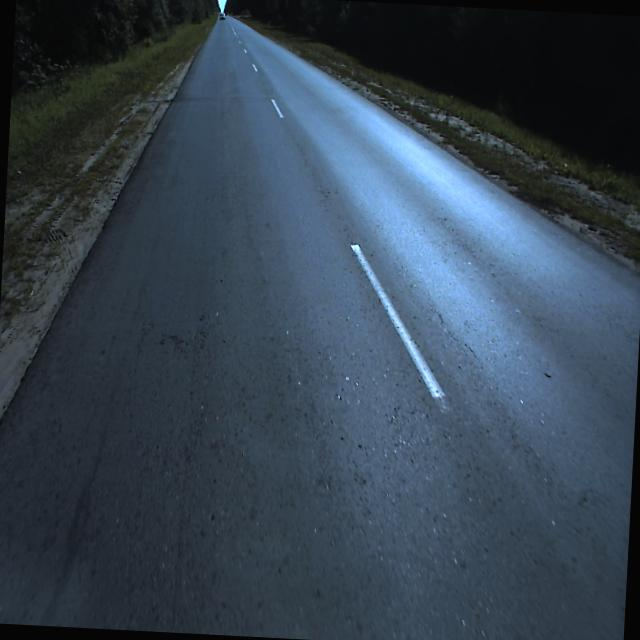road: (0, 16, 640, 640)
